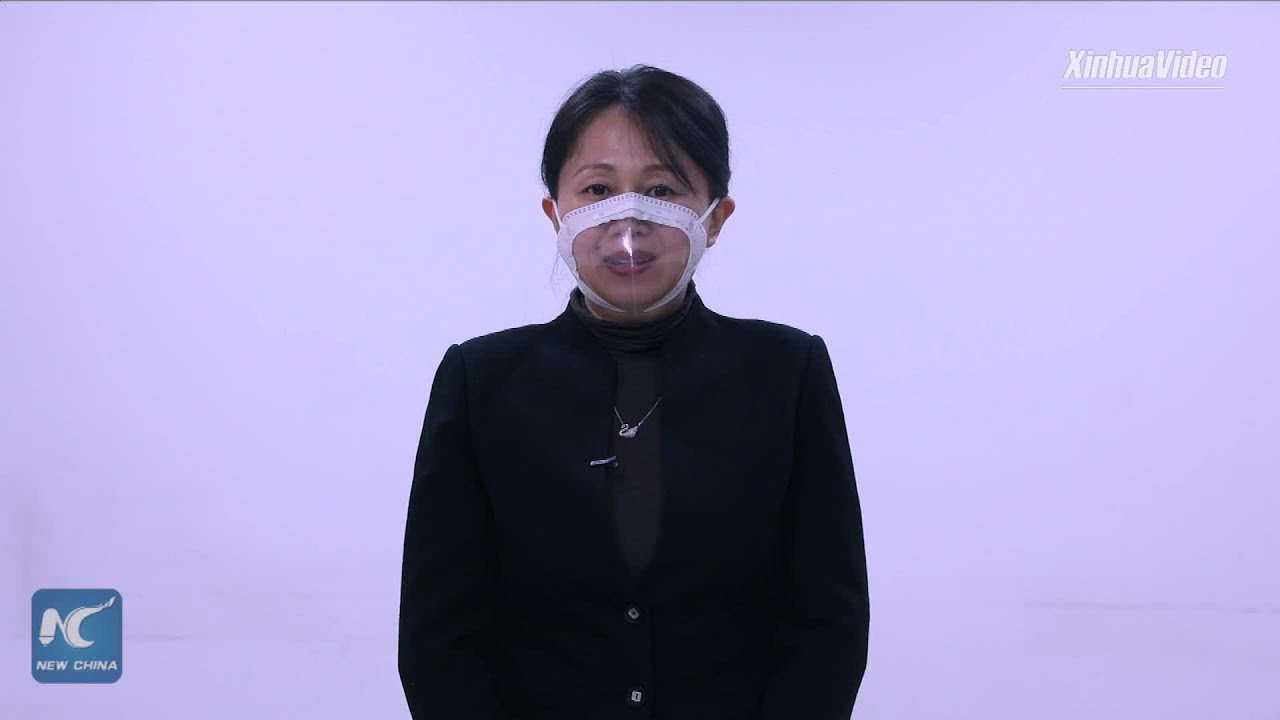mask: (541, 195, 729, 328)
